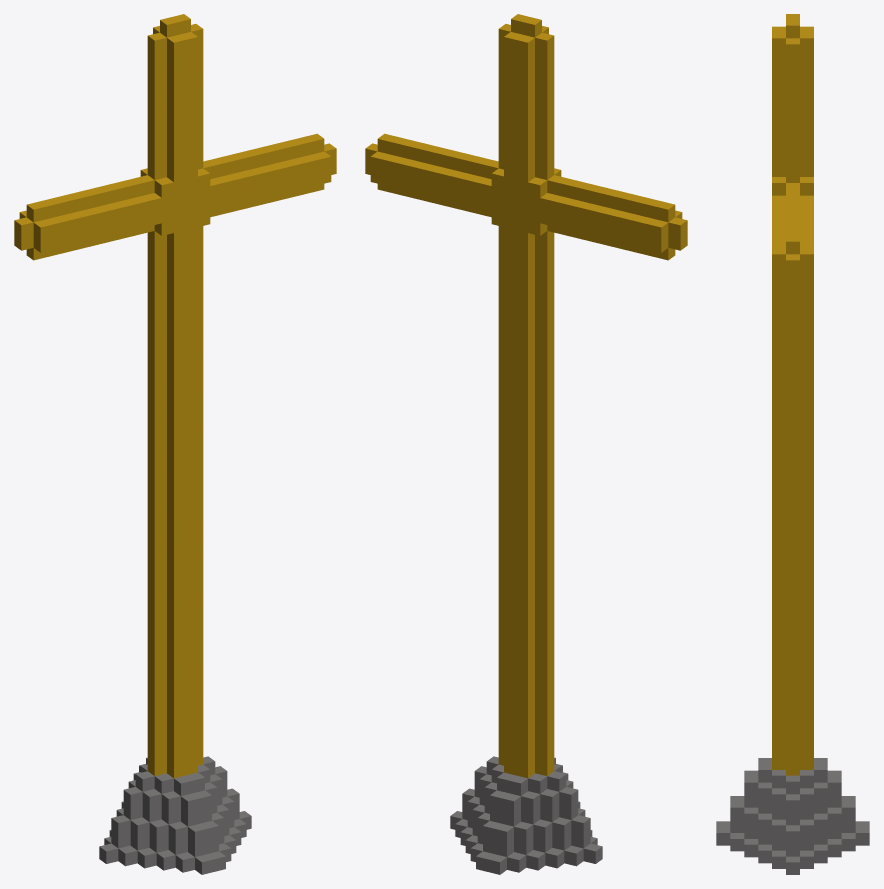
Rendered from Cruz Gigante.obj.
3 renders of one model, left to right at view 1: azimuth 30°, elevation 25°; view 2: azimuth 150°, elevation 25°; view 3: azimuth 270°, elevation 25°, orthographic.
Bounding box in the file's own units: 2.6 × 6.5 × 1.1.
1 material, 1 textured.
